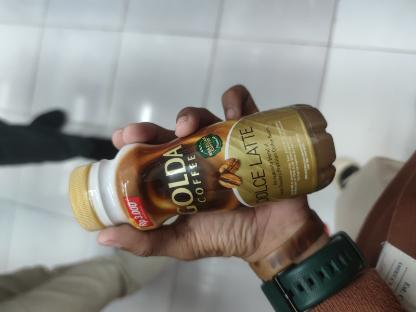Plastic Bottle: (68, 104, 338, 230)
